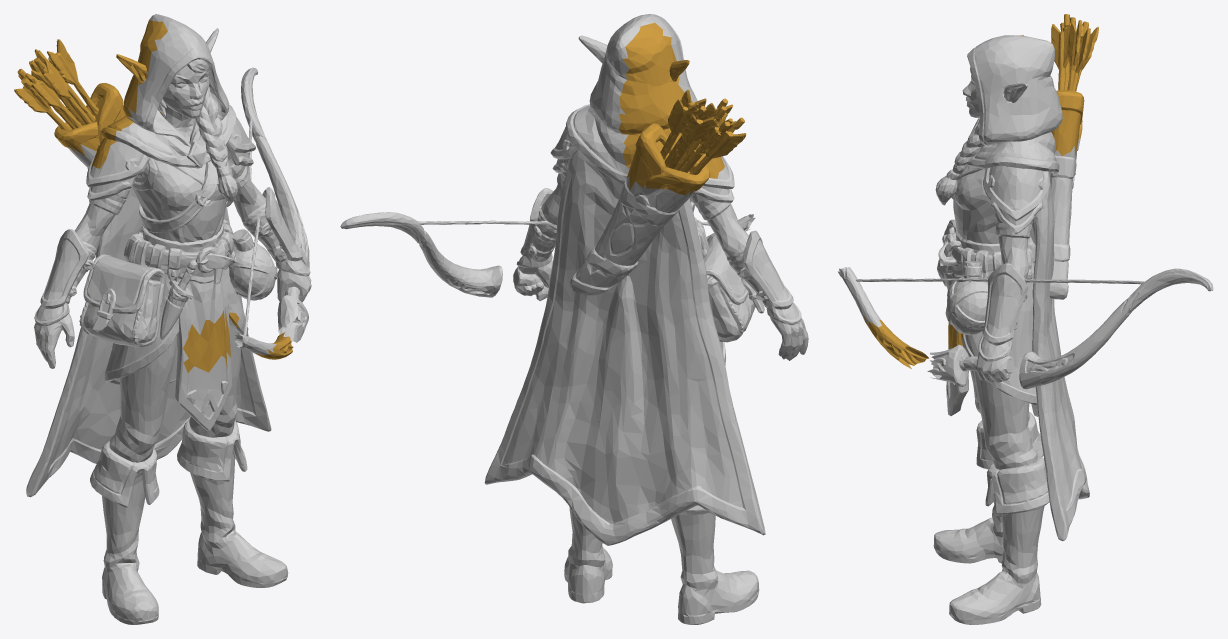
Rendered from archer.obj.
The picture shows the model from 3 angles, left to right: view 1: azimuth 30°, elevation 25°; view 2: azimuth 150°, elevation 25°; view 3: azimuth 270°, elevation 25°; orthographic projection. The views are drawn at different scales.
Visible parts, largest first — view 1: Archer_FullBody; view 2: Archer_FullBody; view 3: Archer_FullBody.
Boxes of the visible parts, box(x1,y1,x2,y2) form: Archer_FullBody: box(14, 14, 311, 624); Archer_FullBody: box(340, 14, 808, 624); Archer_FullBody: box(838, 14, 1213, 624).
Size of the model in its own units: 1.24 by 2 by 1.25.
